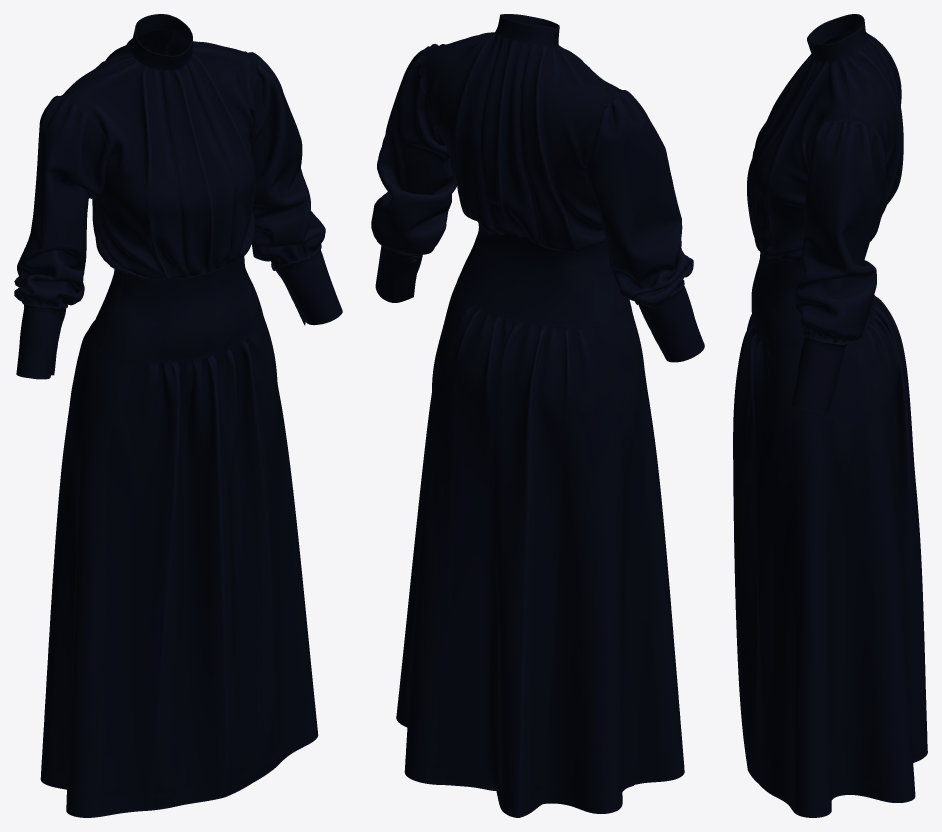
Rendered from dress.glb.
The picture shows the model from 3 angles, left to right: view 1: azimuth 30°, elevation 25°; view 2: azimuth 150°, elevation 25°; view 3: azimuth 270°, elevation 25°; orthographic projection. The views are drawn at different scales.
Parts seen in each view (by area): view 1: BTM_001_front, FO_001, AC_001_Belt, SL_001_Right, BTM_001_Back, SL_001_Left, AC_001_Cuff_Left, AC_001_Cuff_Right, BO_001, AC_001_Collar; view 2: BTM_001_Back, BO_001, SL_001_Right, BTM_001_front, AC_001_Belt, SL_001_Left, AC_001_Cuff_Right, AC_001_Cuff_Left, AC_001_Collar, FO_001; view 3: BTM_001_Back, BTM_001_front, SL_001_Left, FO_001, BO_001, AC_001_Belt, AC_001_Cuff_Left, AC_001_Collar.
Part boxes in pixels (x1=…): BTM_001_front: x1=66, y1=314, x2=318, y2=817; FO_001: x1=65, y1=41, x2=257, y2=279; AC_001_Belt: x1=90, y1=256, x2=263, y2=362; SL_001_Right: x1=14, y1=95, x2=110, y2=309; BTM_001_Back: x1=40, y1=320, x2=100, y2=789; SL_001_Left: x1=245, y1=51, x2=325, y2=266; AC_001_Cuff_Left: x1=273, y1=250, x2=342, y2=325; AC_001_Cuff_Right: x1=16, y1=304, x2=66, y2=379; BO_001: x1=58, y1=29, x2=251, y2=269; AC_001_Collar: x1=129, y1=14, x2=192, y2=70; BTM_001_Back: x1=404, y1=284, x2=645, y2=817; BO_001: x1=419, y1=32, x2=621, y2=251; SL_001_Right: x1=582, y1=90, x2=693, y2=307; BTM_001_front: x1=396, y1=312, x2=684, y2=784; AC_001_Belt: x1=456, y1=223, x2=632, y2=328; SL_001_Left: x1=371, y1=44, x2=456, y2=255; AC_001_Cuff_Right: x1=638, y1=286, x2=704, y2=362; AC_001_Cuff_Left: x1=375, y1=245, x2=422, y2=302; AC_001_Collar: x1=495, y1=14, x2=559, y2=46; FO_001: x1=428, y1=32, x2=624, y2=93; BTM_001_Back: x1=824, y1=295, x2=927, y2=802; BTM_001_front: x1=733, y1=314, x2=831, y2=817; SL_001_Left: x1=794, y1=120, x2=886, y2=345; FO_001: x1=747, y1=33, x2=849, y2=261; BO_001: x1=842, y1=29, x2=903, y2=241; AC_001_Belt: x1=751, y1=252, x2=872, y2=345; AC_001_Cuff_Left: x1=791, y1=336, x2=846, y2=413; AC_001_Collar: x1=807, y1=14, x2=866, y2=61.
Size of the model in its own units: 0.6086 by 1.36 by 0.3223.
1 material, 1 textured.
